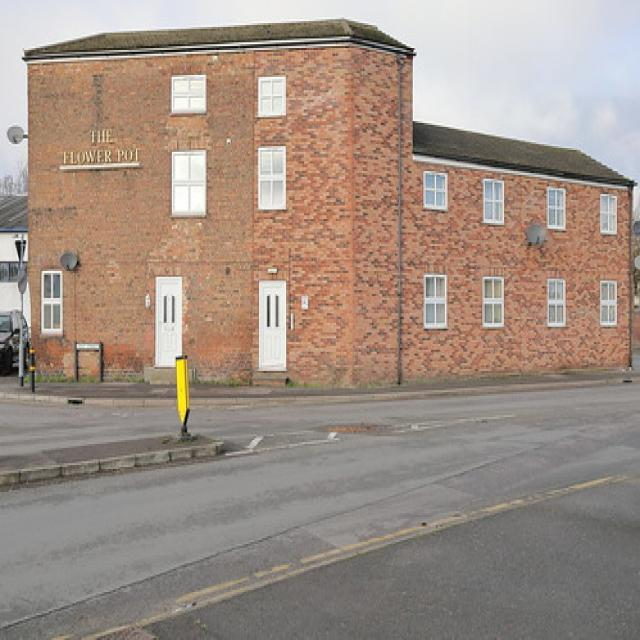Normal_building: (18, 12, 634, 404)
